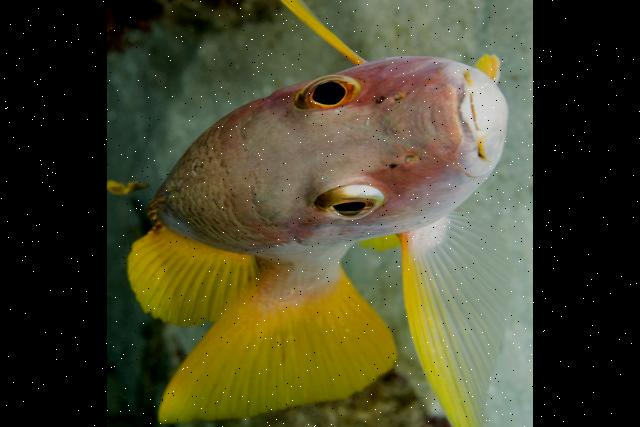Mulut: (436, 50, 526, 176)
Sirip Dada: (393, 204, 527, 427), (198, 0, 394, 83)
Sirip Ekor: (137, 244, 407, 427)
Sirip Punggung: (118, 200, 278, 345)
